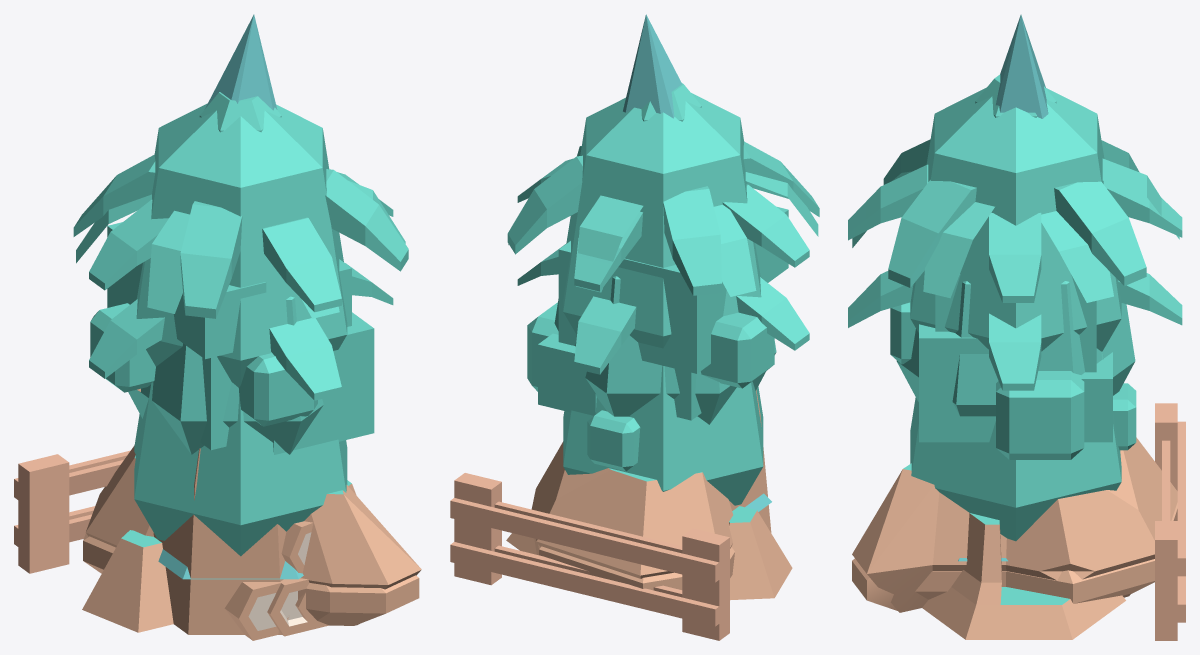
The model's file is nature.glb.
3 renders of one model, left to right at view 1: azimuth 30°, elevation 25°; view 2: azimuth 150°, elevation 25°; view 3: azimuth 270°, elevation 25°, orthographic. The views are drawn at different scales.
Visible parts, largest first — view 1: tree_default, tree_fat, leafs, rock_tallA, tree_blocks, rock_largeB, tree_palmShort, tree_oak, tree_detailed, fence_simple, tree_palmTall, tree_palmBend (+7 smaller); view 2: tree_default, fence_planks, leafs, tree_fat, rock_largeB, tree_blocks, tree_detailed, tree_palmShort, tree_palmBend, fence_simple, tree_oak, rock_tallA (+4 smaller); view 3: tree_default, rock_largeB, leafs, tree_fat, rock_tallA, tree_blocks, tree_detailed, tree_palmBend, tree_oak, tree_palmShort, rock_largeA, tree_palmTall (+4 smaller).
Boxes of the visible parts, bbox=[...] form: tree_default: bbox=[136, 103, 347, 387]; tree_fat: bbox=[134, 382, 347, 556]; leafs: bbox=[73, 154, 408, 318]; rock_tallA: bbox=[82, 448, 356, 634]; tree_blocks: bbox=[107, 222, 374, 454]; rock_largeB: bbox=[85, 445, 421, 625]; tree_palmShort: bbox=[89, 263, 393, 400]; tree_oak: bbox=[128, 296, 323, 454]; tree_detailed: bbox=[90, 303, 317, 426]; fence_simple: bbox=[18, 459, 123, 573]; tree_palmTall: bbox=[101, 172, 358, 289]; tree_palmBend: bbox=[76, 181, 405, 318]; tree_default: bbox=[563, 93, 761, 348]; fence_planks: bbox=[450, 477, 719, 636]; leafs: bbox=[507, 141, 819, 295]; tree_fat: bbox=[563, 365, 763, 505]; rock_largeB: bbox=[531, 441, 733, 578]; tree_blocks: bbox=[538, 206, 788, 420]; tree_detailed: bbox=[527, 302, 774, 471]; tree_palmShort: bbox=[517, 244, 809, 374]; tree_palmBend: bbox=[508, 146, 818, 296]; fence_simple: bbox=[454, 473, 729, 640]; tree_oak: bbox=[554, 276, 776, 424]; rock_tallA: bbox=[506, 390, 792, 600]; tree_default: bbox=[910, 87, 1121, 351]; rock_largeB: bbox=[852, 437, 1177, 612]; leafs: bbox=[848, 139, 1182, 302]; tree_fat: bbox=[910, 351, 1121, 541]; rock_tallA: bbox=[922, 513, 1125, 639]; tree_blocks: bbox=[919, 274, 1112, 442]; tree_detailed: bbox=[890, 302, 1136, 459]; tree_palmBend: bbox=[852, 158, 1179, 302]; tree_oak: bbox=[896, 281, 1135, 416]; tree_palmShort: bbox=[848, 271, 1182, 390]; rock_largeA: bbox=[852, 502, 1177, 610]; tree_palmTall: bbox=[848, 166, 1164, 302].
Size of the model in its own units: 1.03 by 1.93 by 1.05.
